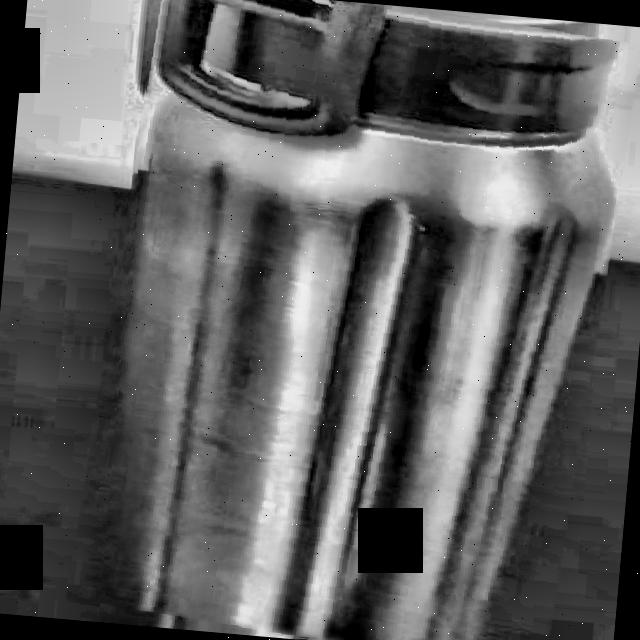bottle: (101, 0, 620, 640)
